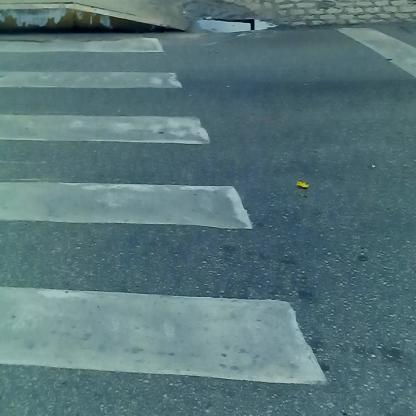crosswalk: (1, 34, 277, 415)
sidewalk: (3, 2, 413, 42)
